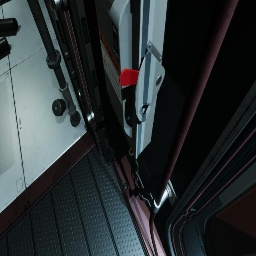SafetySwitchPanel ,: (94, 0, 170, 160)
